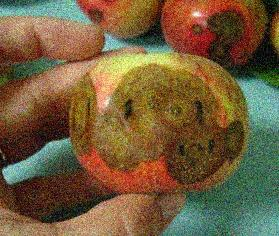rotten apple: (65, 51, 255, 198), (161, 1, 266, 66), (76, 1, 159, 41)
